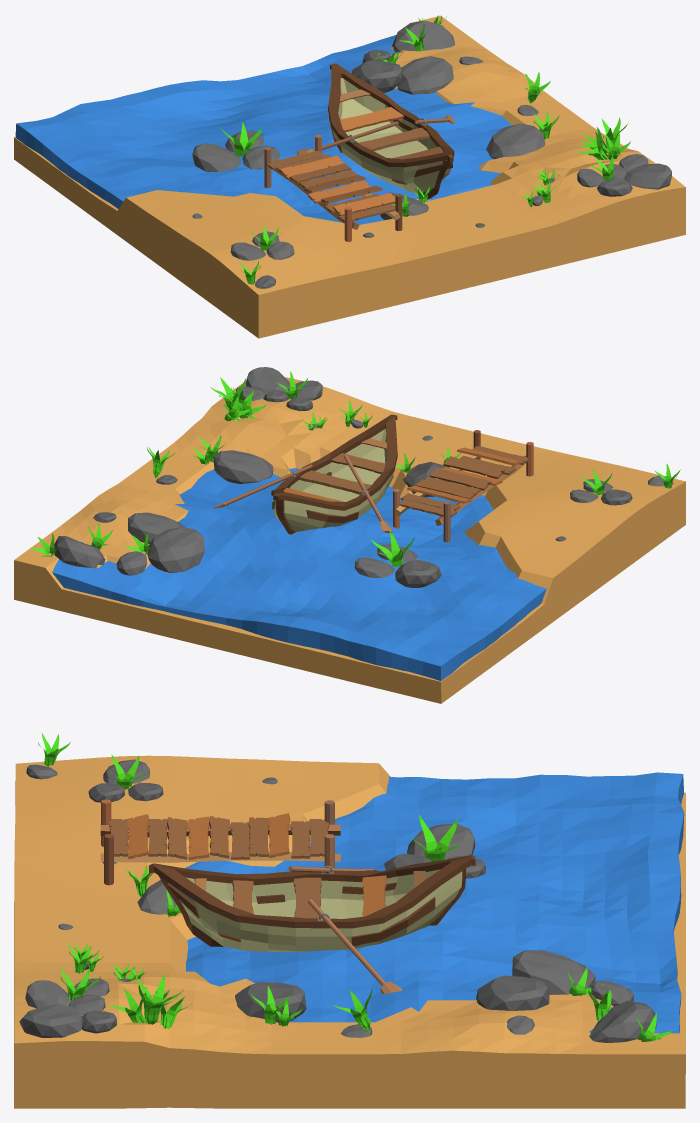
The model's file is island.fbx.
3 views of the same model, one above another, from view 1: azimuth 30°, elevation 25°; view 2: azimuth 150°, elevation 25°; view 3: azimuth 270°, elevation 25° (orthographic). The views are drawn at different scales.
Parts seen in each view (by area): view 1: land, water, boat, bridge, Icosphere.013, Icosphere.020, Icosphere.015, Icosphere.014, Icosphere.010, Icosphere, Icosphere.011, Icosphere.001 (+1 smaller); view 2: land, water, boat, bridge, Icosphere.014, Icosphere.020, Icosphere.015, Icosphere.013, Icosphere.010, Icosphere, Icosphere.012, Icosphere.016 (+1 smaller); view 3: land, water, boat, bridge, Icosphere.014, Icosphere.013, Icosphere.015, Icosphere.020, Icosphere, Icosphere.010, Icosphere.001, Plane.014 (+7 smaller).
Part boxes in pixels (x1,y1,x2,y2): land: (14, 15, 685, 338); water: (15, 35, 511, 224); boat: (328, 63, 454, 199); bridge: (264, 134, 402, 241); Icosphere.013: (397, 56, 453, 94); Icosphere.020: (486, 123, 545, 159); Icosphere.015: (392, 20, 454, 52); Icosphere.014: (351, 60, 402, 92); Icosphere.010: (192, 143, 240, 171); Icosphere: (623, 163, 671, 189); Icosphere.011: (242, 145, 280, 169); Icosphere.001: (597, 178, 632, 196); land: (14, 377, 685, 703); water: (52, 468, 546, 680); boat: (271, 414, 397, 534); bridge: (393, 430, 533, 542); Icosphere.014: (147, 527, 204, 572); Icosphere.020: (213, 450, 273, 483); Icosphere.015: (54, 536, 105, 568); Icosphere.013: (128, 512, 184, 543); Icosphere.010: (395, 560, 441, 587); Icosphere: (245, 367, 289, 393); Icosphere.012: (354, 557, 394, 578); Icosphere.016: (116, 551, 147, 575); land: (14, 755, 685, 1108); water: (160, 772, 684, 1033); boat: (149, 855, 475, 951); bridge: (100, 799, 340, 885); Icosphere.014: (512, 950, 595, 994); Icosphere.013: (476, 975, 549, 1010); Icosphere.015: (589, 1000, 656, 1042); Icosphere.020: (235, 982, 306, 1022); Icosphere: (19, 1004, 82, 1037); Icosphere.010: (407, 823, 475, 858); Icosphere.001: (25, 980, 71, 1008); Plane.014: (413, 814, 461, 861).
Size of what is drawn, in the model's own units: 613 by 136 by 600.
